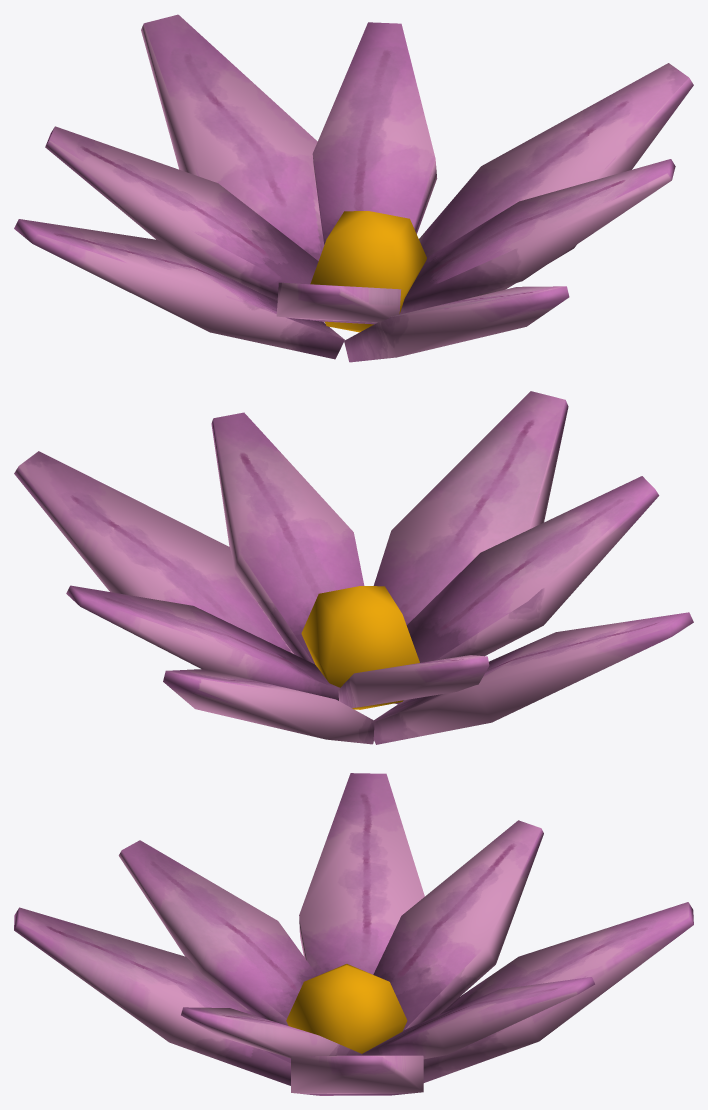
File: Lilypad 1.fbx
3 renders of one model, top to bottom at view 1: azimuth 30°, elevation 25°; view 2: azimuth 150°, elevation 25°; view 3: azimuth 270°, elevation 25°, orthographic. The views are drawn at different scales.
Parts seen in each view (by area): view 1: Cube.008, Sphere; view 2: Cube.008, Sphere; view 3: Cube.008, Sphere.
Boxes of the visible parts, left/top/right/bottom form: Cube.008: left=14, top=14, right=693, bottom=362; Sphere: left=310, top=211, right=426, bottom=332; Cube.008: left=14, top=391, right=693, bottom=744; Sphere: left=301, top=586, right=419, bottom=709; Cube.008: left=14, top=773, right=693, bottom=1095; Sphere: left=286, top=964, right=407, bottom=1053.
Size of the model in its own units: 98.61 by 26.24 by 98.82.
2 materials, 1 textured.
